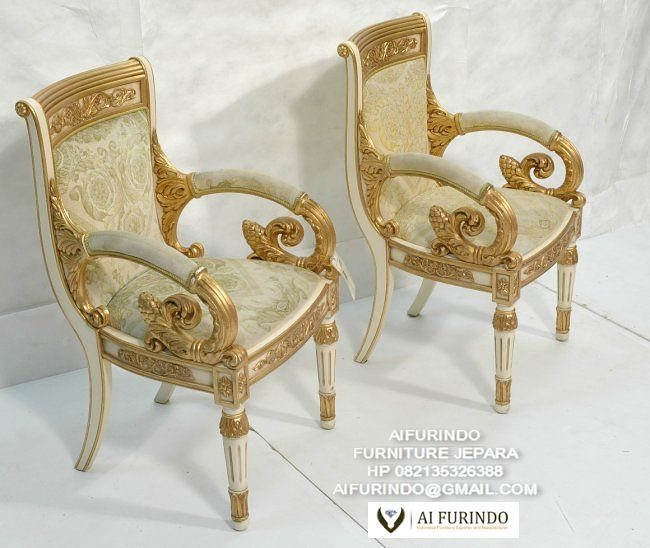Carving Chair: (10, 62, 340, 542), (341, 14, 595, 423)
